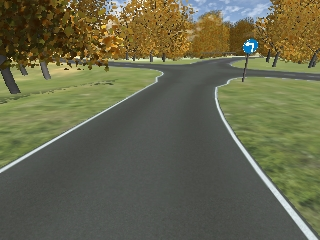left: (243, 39, 259, 55)
